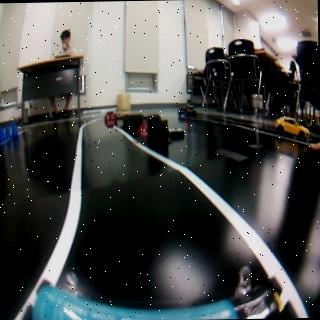stop: (104, 110, 117, 128)
